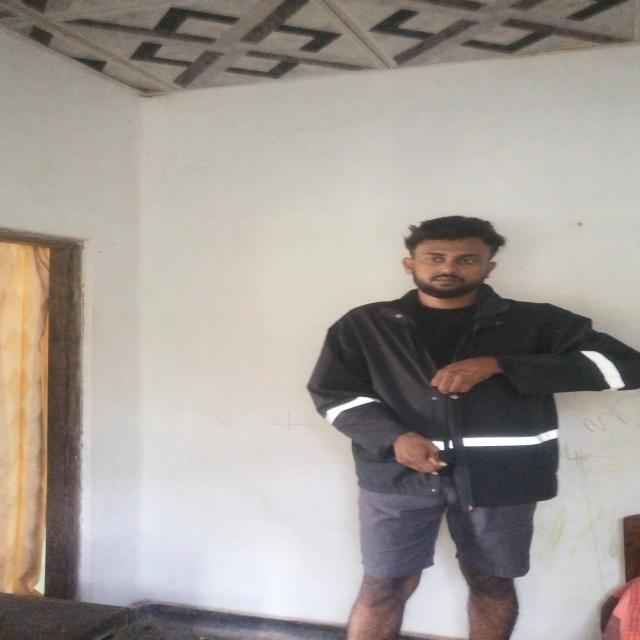Jacket_Wearer: (294, 282, 640, 500)
